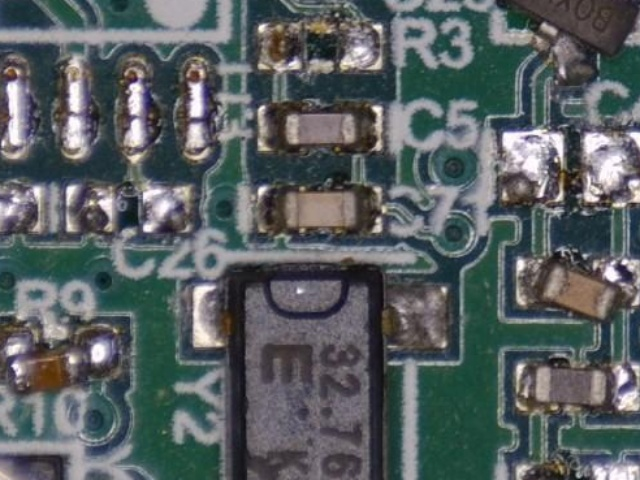pcb_defect: (514, 253, 640, 326), (0, 325, 123, 397), (514, 359, 640, 415), (512, 462, 640, 480)
